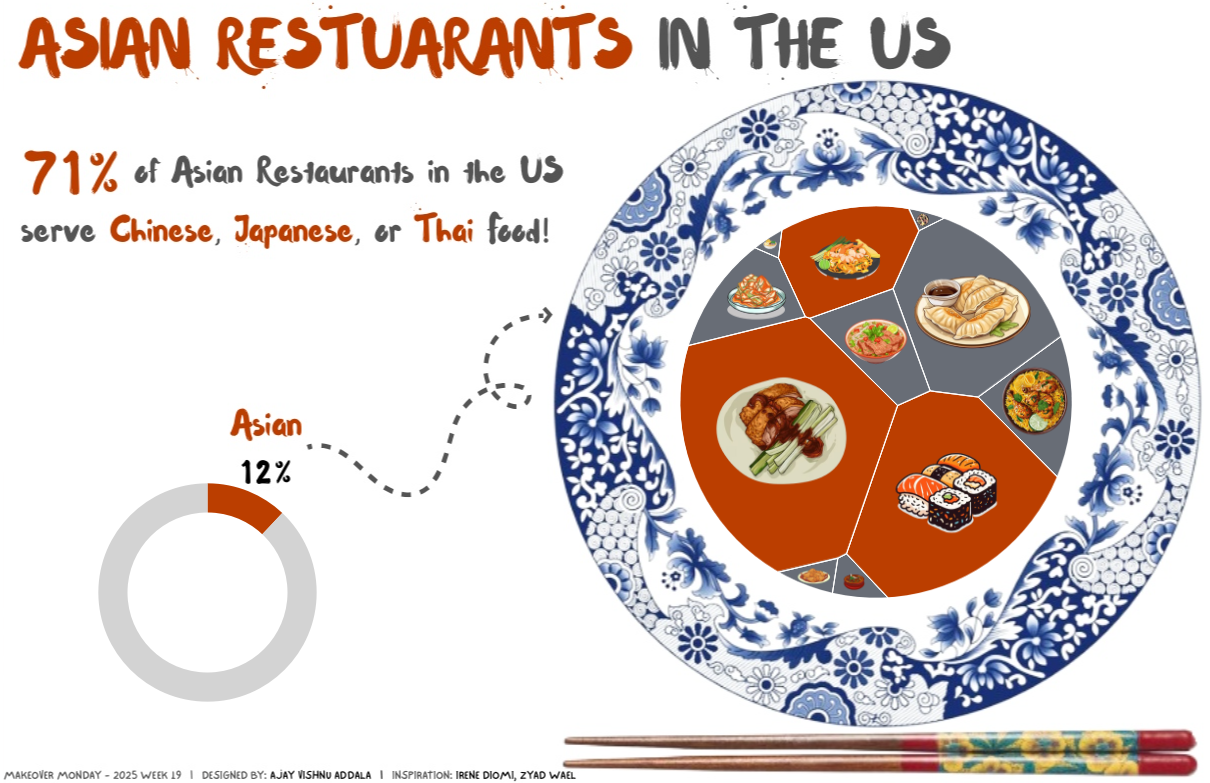

What the dashboard file says about the page in this screenshot:
{"tool":"tableau","page":{"name":"MOM2025 W19","canvas":[1209,800],"ordinal":0},"visuals":[{"type":"image","param":"Image/ASIAN FOOD RESS.png","box":[2,2,1205,796]},{"type":"worksheet","title":"Voronoi","mark":"Polygon","box":[660,202,411,411]},{"type":"image","param":"Image/voronoi 1 (1).png","box":[675,217,400,400]},{"type":"worksheet","title":"Donut","mark":"Pie","rows":["Calculation_994451100440813571","Calculation_994451100440813571"],"box":[82,488,249,239]}]}

Visuals, with their boxes in screenshot pixels (x1, y1, x2, y2), scaled from the page's 1209x800 canvas onto the 1210x783 screenshot:
image: left=2, top=2, right=1208, bottom=781
"Voronoi" worksheet (Polygon marks): left=661, top=198, right=1072, bottom=600
image: left=676, top=212, right=1076, bottom=604
"Donut" worksheet (Pie marks): left=82, top=478, right=331, bottom=712
